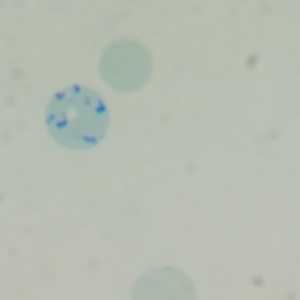aggregate reticulocyte: (42, 83, 111, 152)
erythrocyte: (96, 38, 153, 94)
